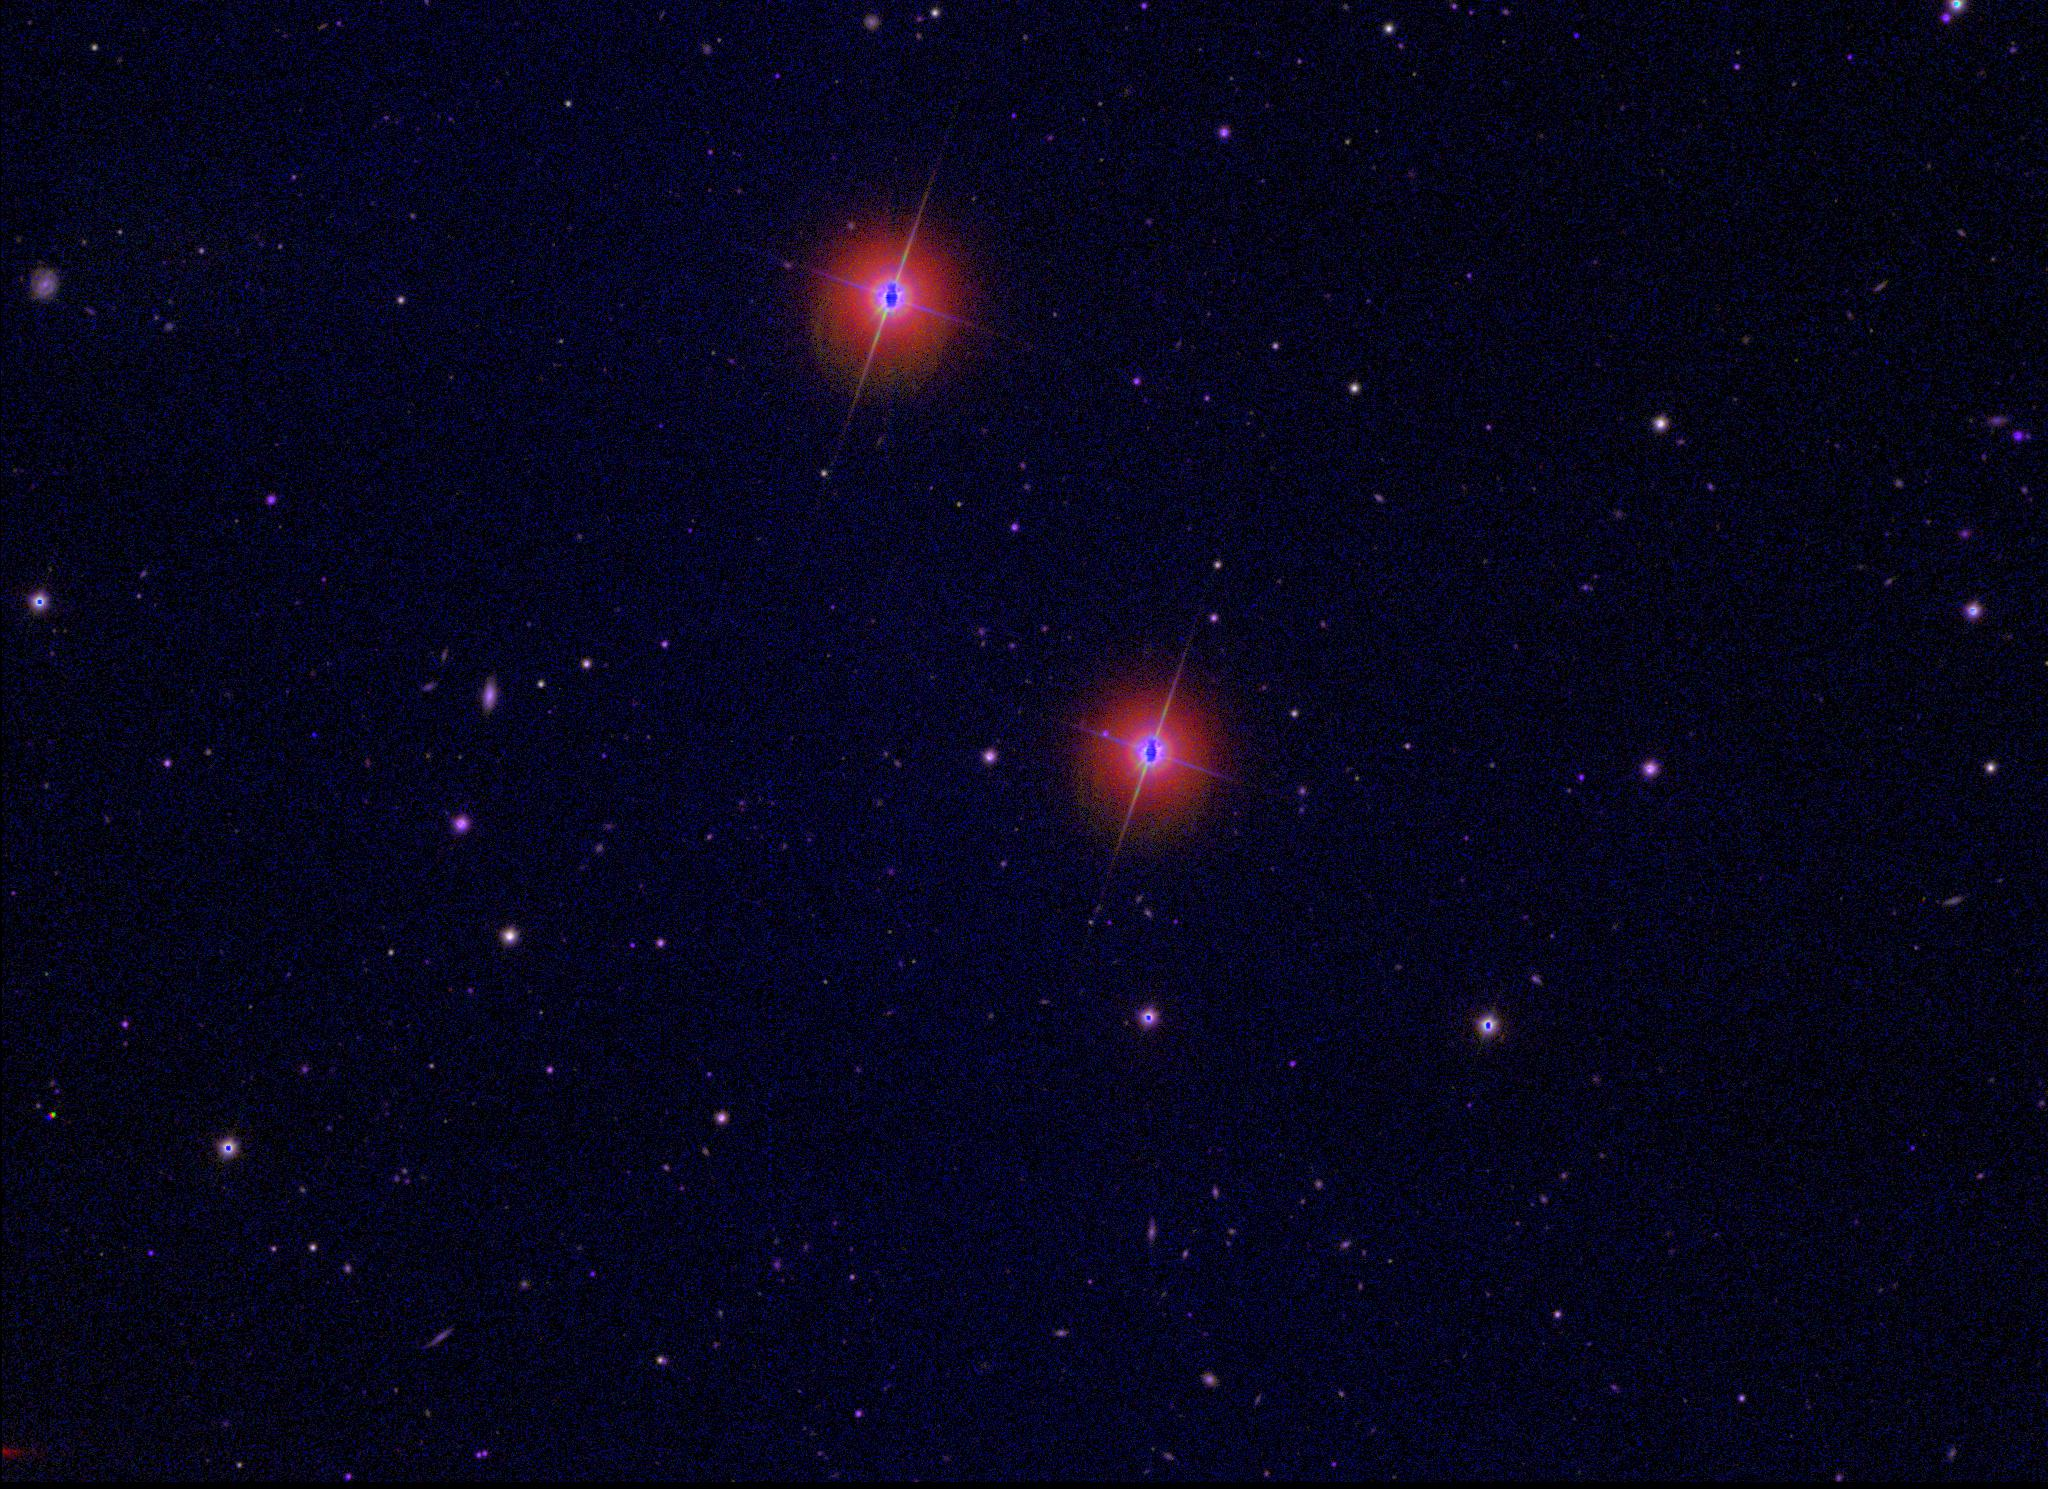L: (308, 725, 323, 740)
